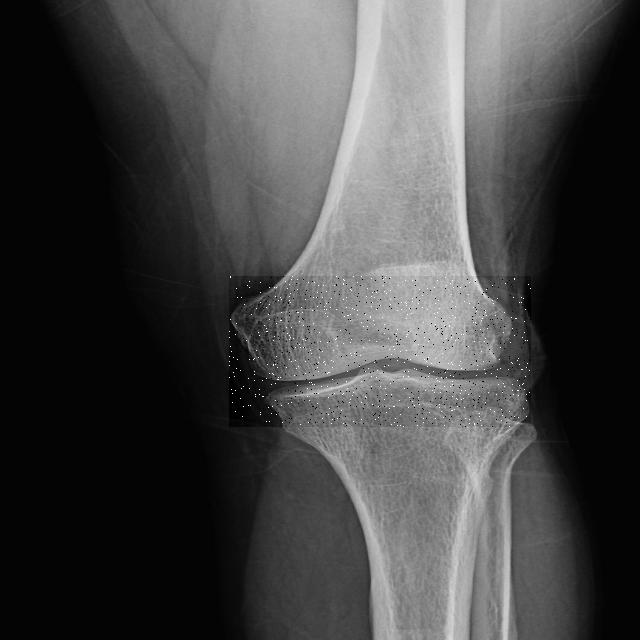osteo: (229, 276, 531, 427)
